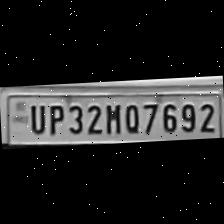2: (194, 99, 216, 134), (82, 100, 102, 136)
3: (64, 100, 83, 136)
6: (158, 99, 177, 133)
7: (138, 100, 158, 134)
9: (176, 100, 196, 132)
M: (102, 100, 122, 136)
P: (44, 100, 64, 136)
Q: (120, 100, 140, 134)
U: (24, 101, 46, 135)
